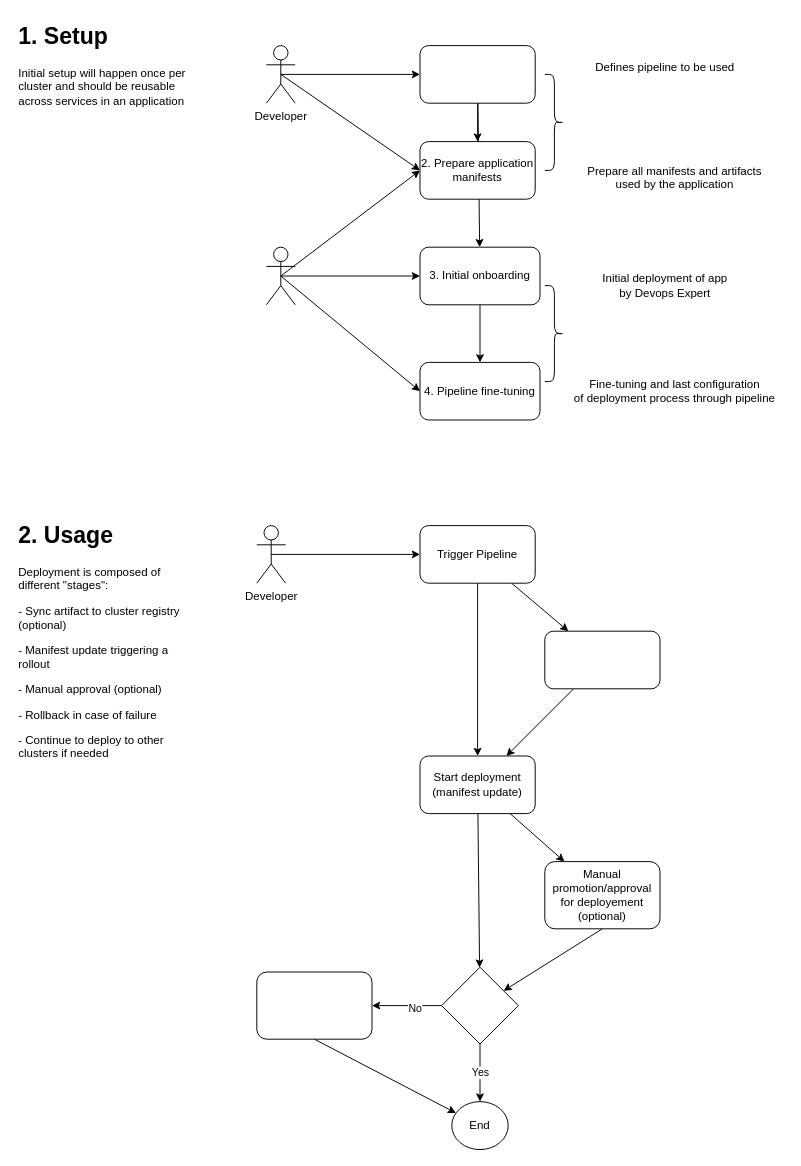
The diagram is 801 pixels wide and 1166 high, and some of its shapes have lost their labels. Each missing label, with the box of its shape:
1. Deployment strategy Blue/green or Canary: (419, 45, 535, 103)
DevOps Expert: (265, 246, 295, 305)
Rollback / abort: (256, 971, 372, 1039)
succeeded?: (441, 966, 518, 1044)
Sync Artifact to cluster (optional): (544, 630, 660, 689)
